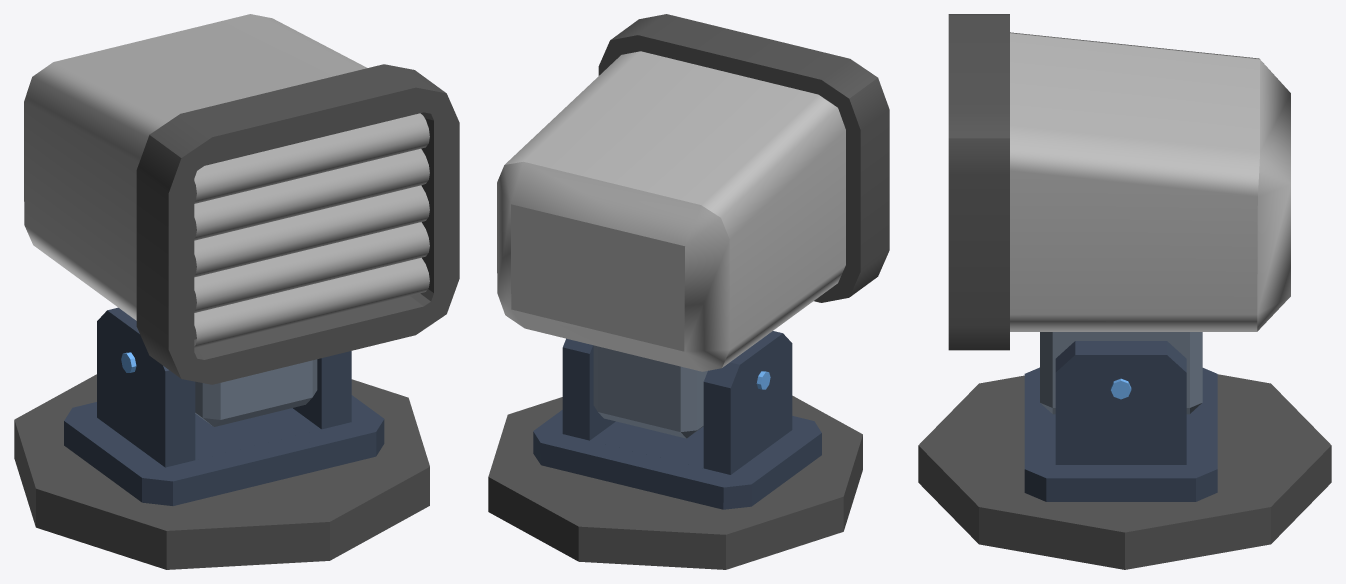
The model's file is Lamp.fbx.
3 renders of one model, left to right at view 1: azimuth 30°, elevation 25°; view 2: azimuth 150°, elevation 25°; view 3: azimuth 270°, elevation 25°, orthographic. The views are drawn at different scales.
Parts seen in each view (by area): view 1: lamp, pedestal; view 2: lamp, pedestal; view 3: lamp, pedestal.
Boxes of the visible parts, bbox=[...] form: lamp: bbox=[24, 14, 459, 426]; pedestal: bbox=[14, 307, 429, 569]; lamp: bbox=[497, 14, 889, 438]; pedestal: bbox=[488, 331, 862, 569]; lamp: bbox=[948, 14, 1290, 414]; pedestal: bbox=[918, 341, 1331, 569].
Bounding box in the file's own units: 2.4 × 2.69 × 2.4.
